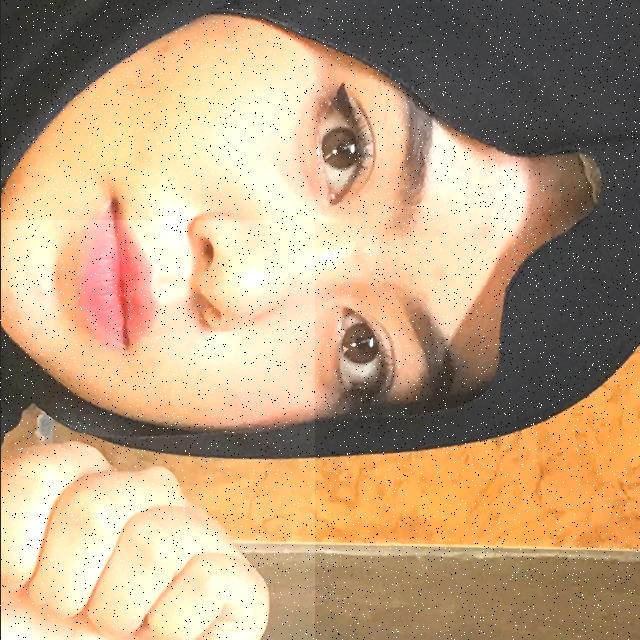sedih: (0, 220, 314, 640)
